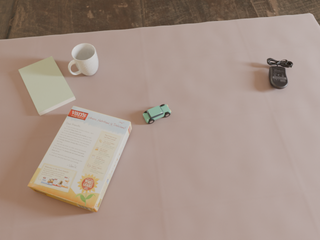book: (19, 56, 75, 116)
box: (28, 106, 131, 212)
cup: (68, 43, 98, 76)
mouse: (267, 58, 293, 89)
toy_car: (143, 104, 171, 124)
